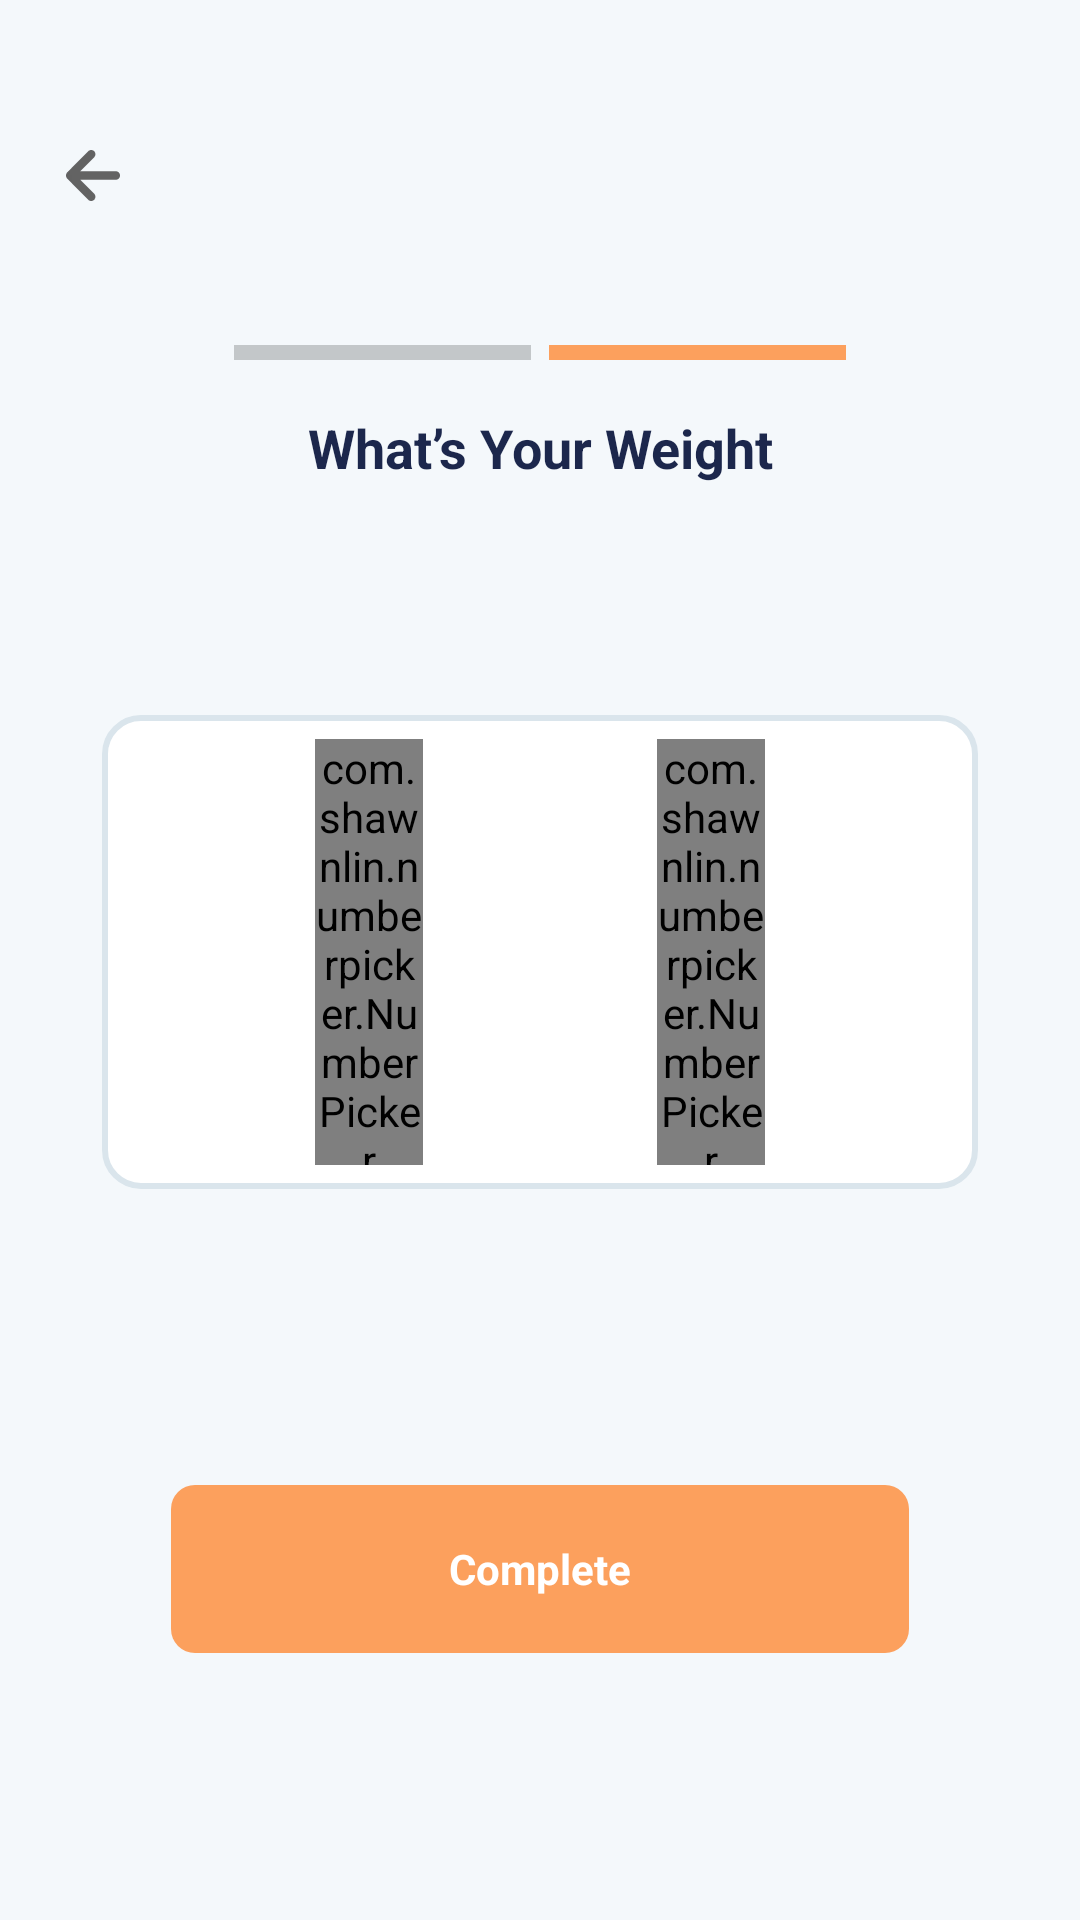

Point at icon controls on the screen. Image size 1080px×1920px, points as (x,y).
back: (93,175)
